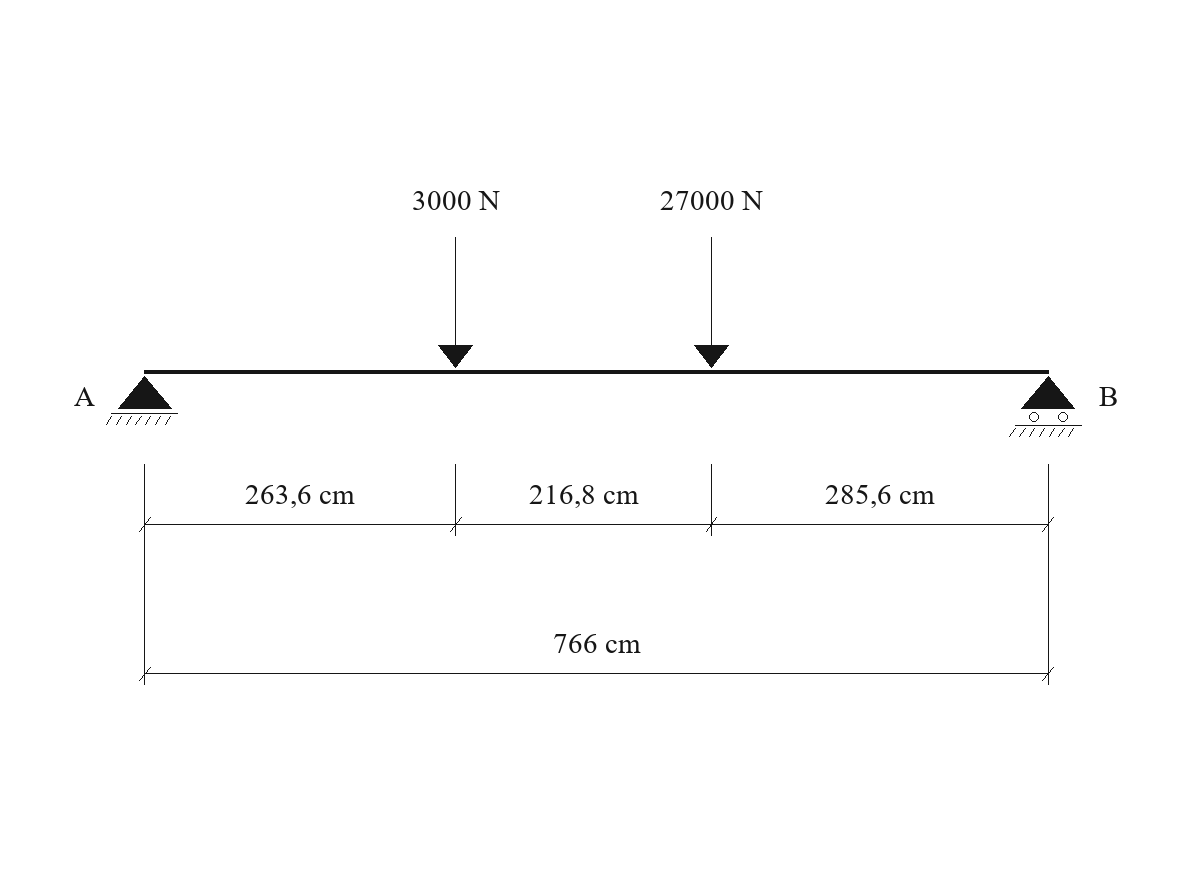pin_support: (106, 376, 178, 425)
point_load: (438, 237, 473, 368), (694, 237, 729, 368)
roller_support: (1009, 376, 1082, 437)
